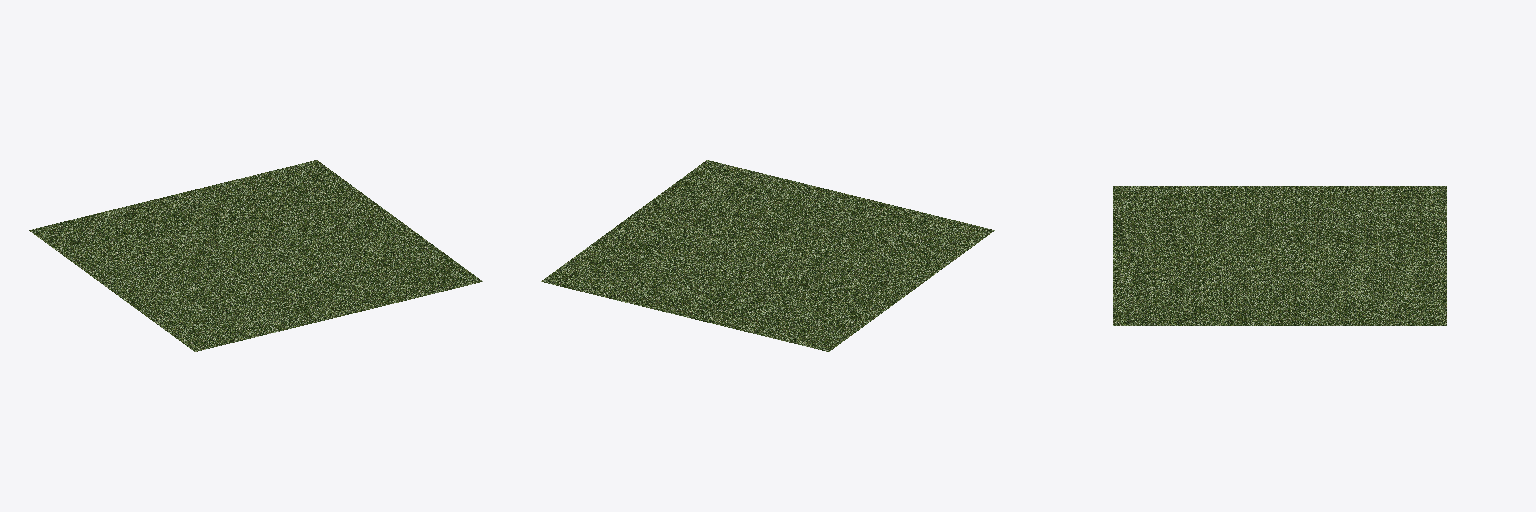
3 renders of one model, left to right at view 1: azimuth 30°, elevation 25°; view 2: azimuth 150°, elevation 25°; view 3: azimuth 270°, elevation 25°, orthographic.
Visible parts, largest first — view 1: Ground; view 2: Ground; view 3: Ground.
Boxes of the visible parts, x1,y1,x2,y2 form: Ground: [29, 160, 482, 351]; Ground: [541, 160, 994, 351]; Ground: [1113, 186, 1446, 325].
Bounding box in the file's own units: 1 × 0 × 1.
Materials: 1 (1 with a texture image).